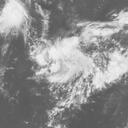cyclone: (34, 37, 101, 86)
